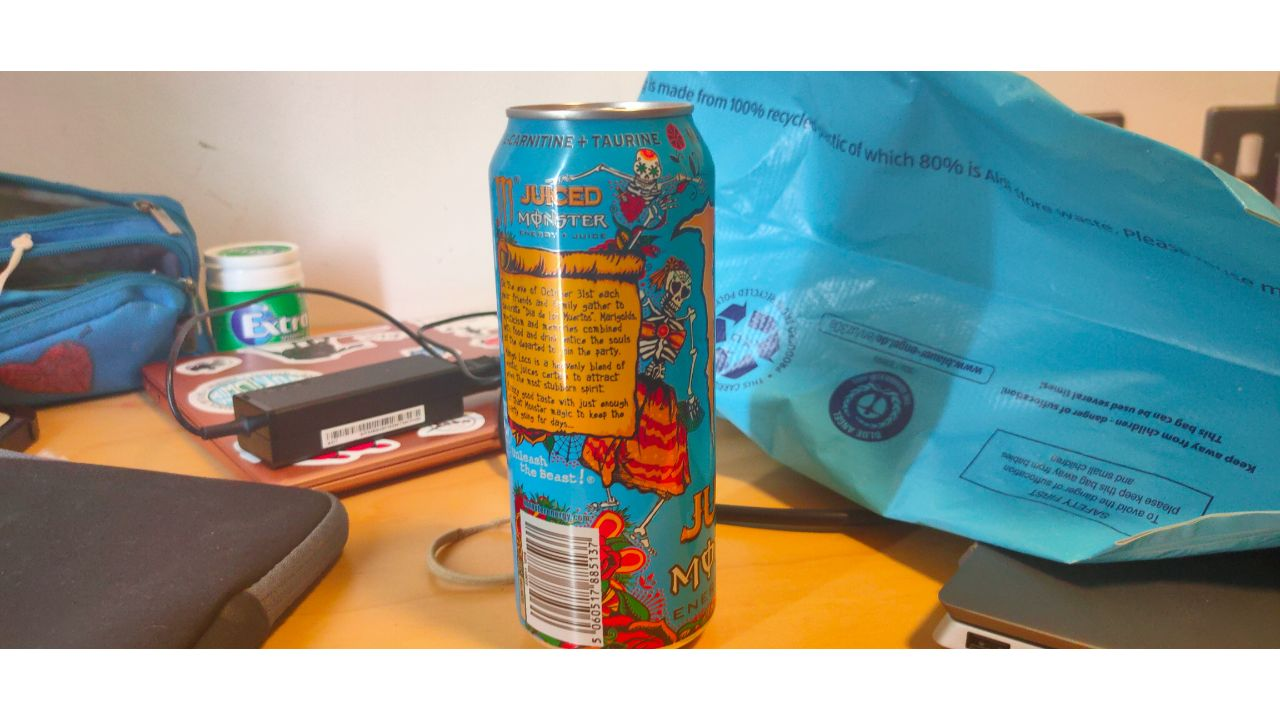Can: (488, 101, 722, 658)
